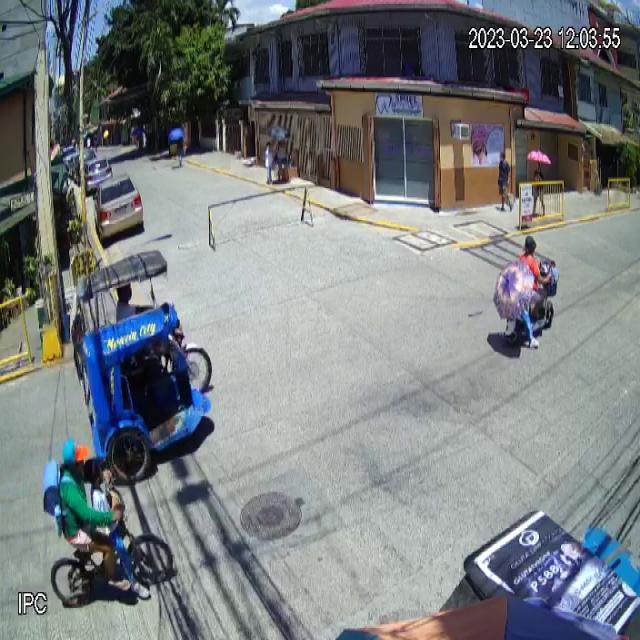Tricycle: (71, 247, 213, 482)
